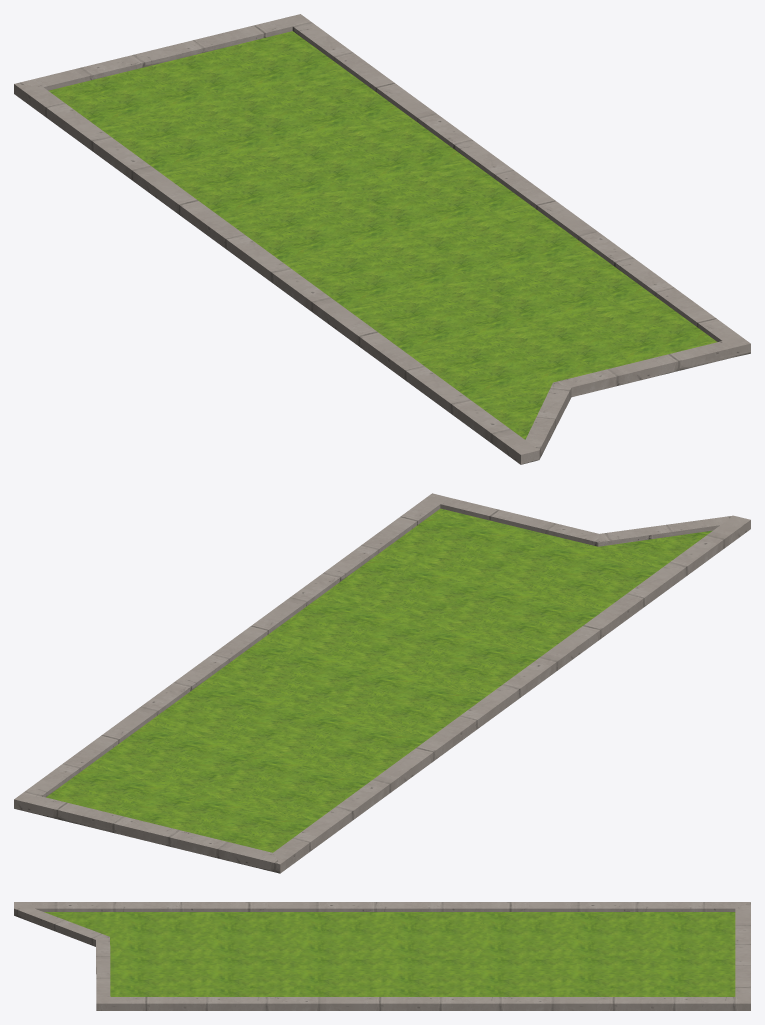
The model's file is GrassTile_N.fbx.
The picture shows the model from 3 angles, top to bottom: view 1: azimuth 30°, elevation 25°; view 2: azimuth 150°, elevation 25°; view 3: azimuth 270°, elevation 25°; orthographic projection. The views are drawn at different scales.
Visible parts, largest first — view 1: GrassTile_N; view 2: GrassTile_N; view 3: GrassTile_N.
Part boxes in pixels (x1,y1,x2,y2): GrassTile_N: [14, 14, 750, 464]; GrassTile_N: [14, 493, 750, 873]; GrassTile_N: [14, 902, 750, 1010].
Bounding box in the file's own units: 759 × 25.35 × 2325.
Materials: 2 (2 with a texture image).
